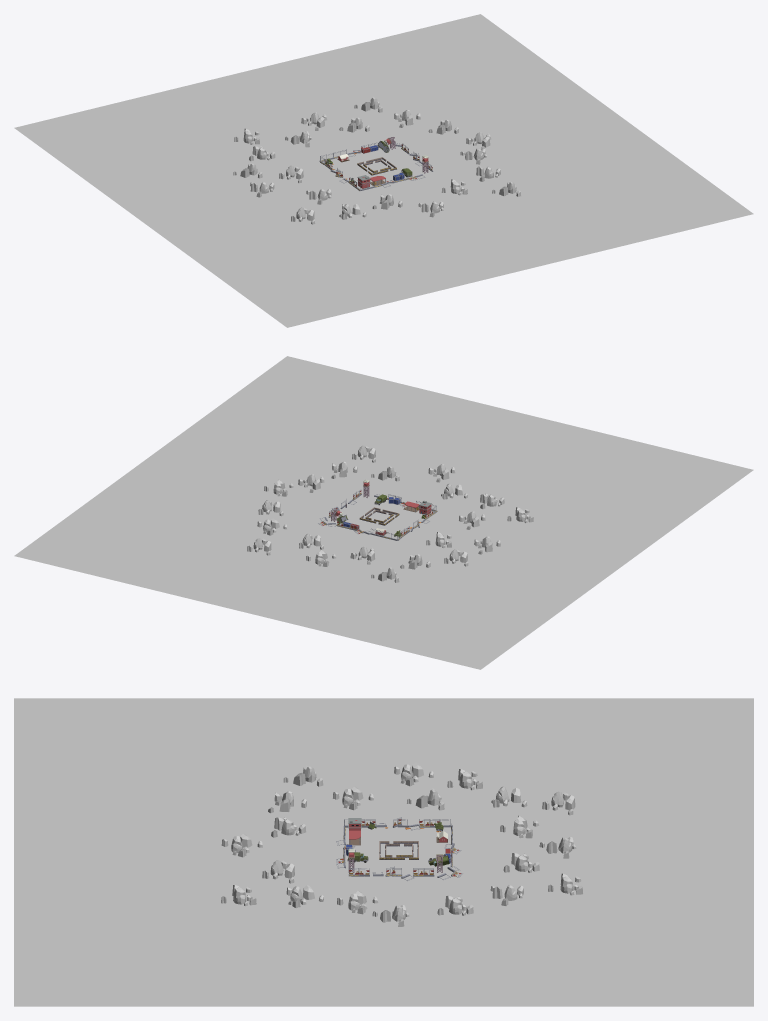
Rendered from MilitaryBaseScene.fbx.
The picture shows the model from 3 angles, top to bottom: view 1: azimuth 30°, elevation 25°; view 2: azimuth 150°, elevation 25°; view 3: azimuth 270°, elevation 25°; orthographic projection. The views are drawn at different scales.
Parts seen in each view (by area): view 1: Ground; view 2: Ground; view 3: Ground.
Part boxes in pixels (x1,y1,x2,y2): Ground: (14,14,753,327); Ground: (14,356,753,669); Ground: (14,698,753,1006).
Bounding box in the file's own units: 364 × 12.93 × 369.
